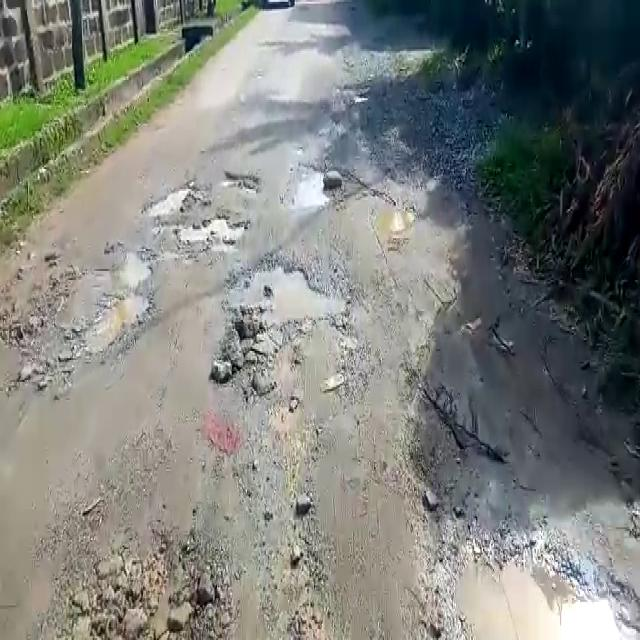Pothole: (409, 528, 637, 640), (51, 253, 156, 368), (224, 258, 352, 323), (368, 192, 419, 236), (285, 166, 336, 210), (180, 214, 248, 245), (145, 183, 193, 218), (218, 169, 263, 194)
